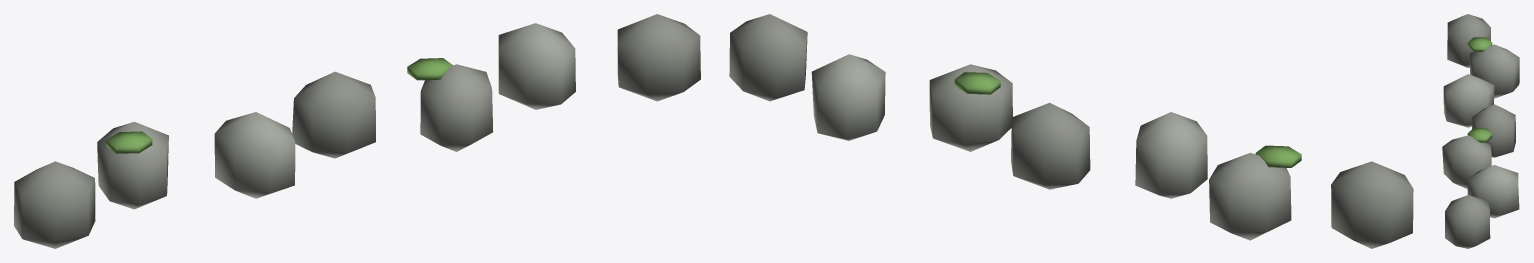
Rendered from bridge_stones.glb.
3 renders of one model, left to right at view 1: azimuth 30°, elevation 25°; view 2: azimuth 150°, elevation 25°; view 3: azimuth 270°, elevation 25°, orthographic. The views are drawn at different scales.
Parts seen in each view (by area): view 1: body, body_nl; view 2: body, body_nl; view 3: body, body_nl.
Boxes of the visible parts, left/top/right/bottom form: body: left=14, top=14, right=700, bottom=248; body_nl: left=106, top=58, right=452, bottom=153; body: left=729, top=14, right=1413, bottom=248; body_nl: left=954, top=72, right=1301, bottom=167; body: left=1442, top=14, right=1519, bottom=248; body_nl: left=1467, top=37, right=1492, bottom=142.
Size of the model in its own units: 4.03 by 0.5105 by 0.6495.
